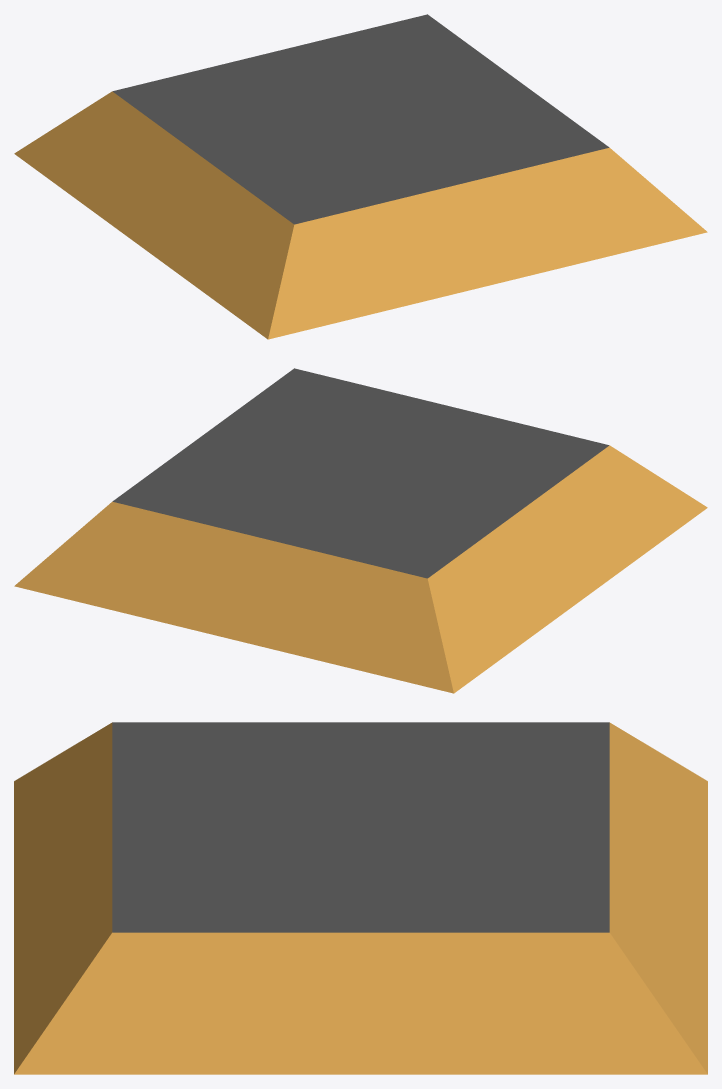
The model's file is Skate_Pill_Box_01.FBX.
3 renders of one model, top to bottom at view 1: azimuth 30°, elevation 25°; view 2: azimuth 150°, elevation 25°; view 3: azimuth 270°, elevation 25°, orthographic. The views are drawn at different scales.
Parts seen in each view (by area): view 1: Skate_Pill_Box_01; view 2: Skate_Pill_Box_01; view 3: Skate_Pill_Box_01.
Part boxes in pixels (x1=…): Skate_Pill_Box_01: x1=14, y1=14, x2=707, y2=339; Skate_Pill_Box_01: x1=14, y1=368, x2=707, y2=693; Skate_Pill_Box_01: x1=14, y1=722, x2=707, y2=1074.
Size of the model in its own units: 3 by 0.4789 by 3.
